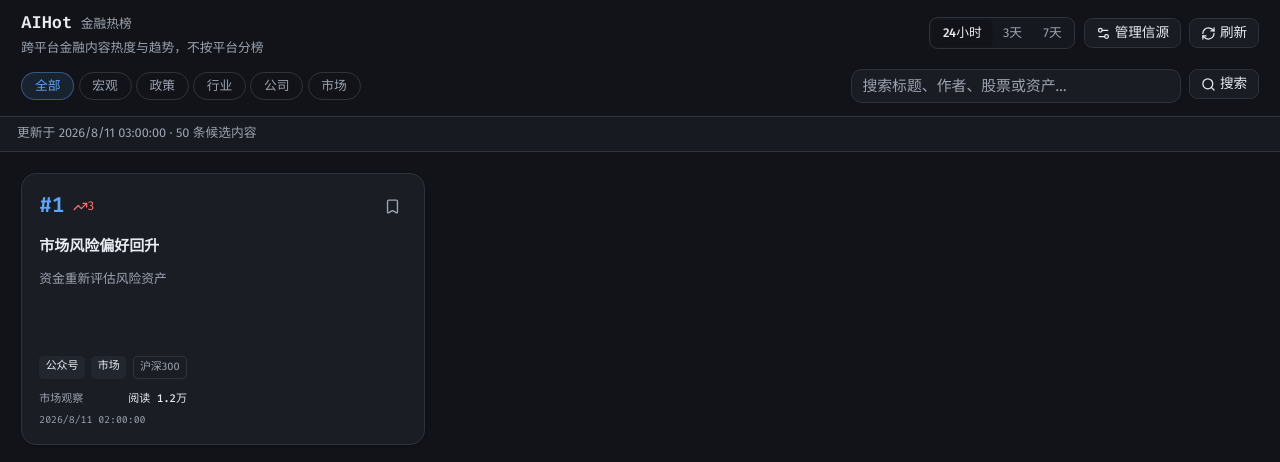
Test: AihotPanel › 刷新失败不会被吞掉
Click the button "刷新" at (1224,33), box [1189, 18, 1259, 48]
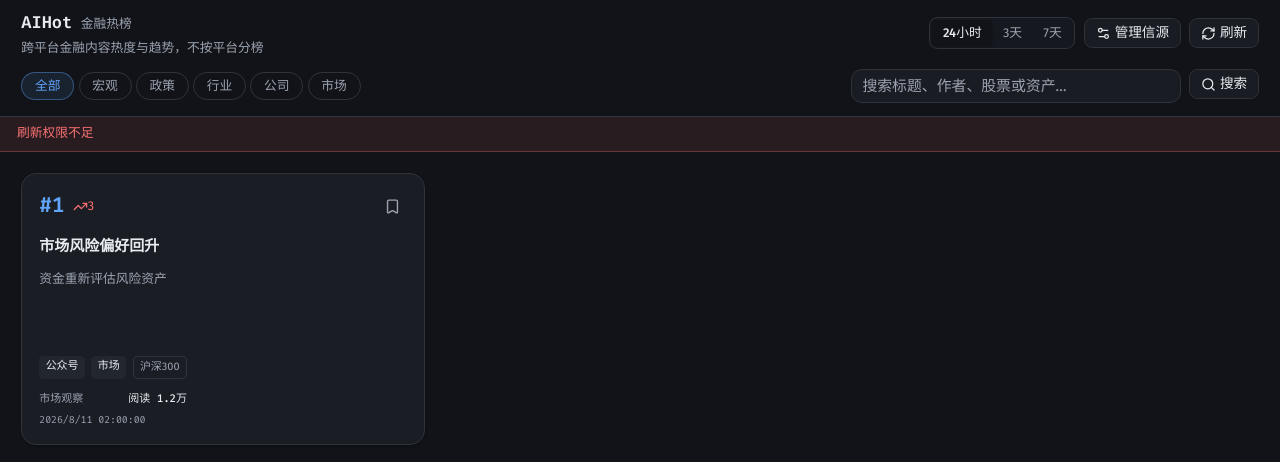
Expected: the message reads "刷新权限不足", [17, 126, 94, 140]
